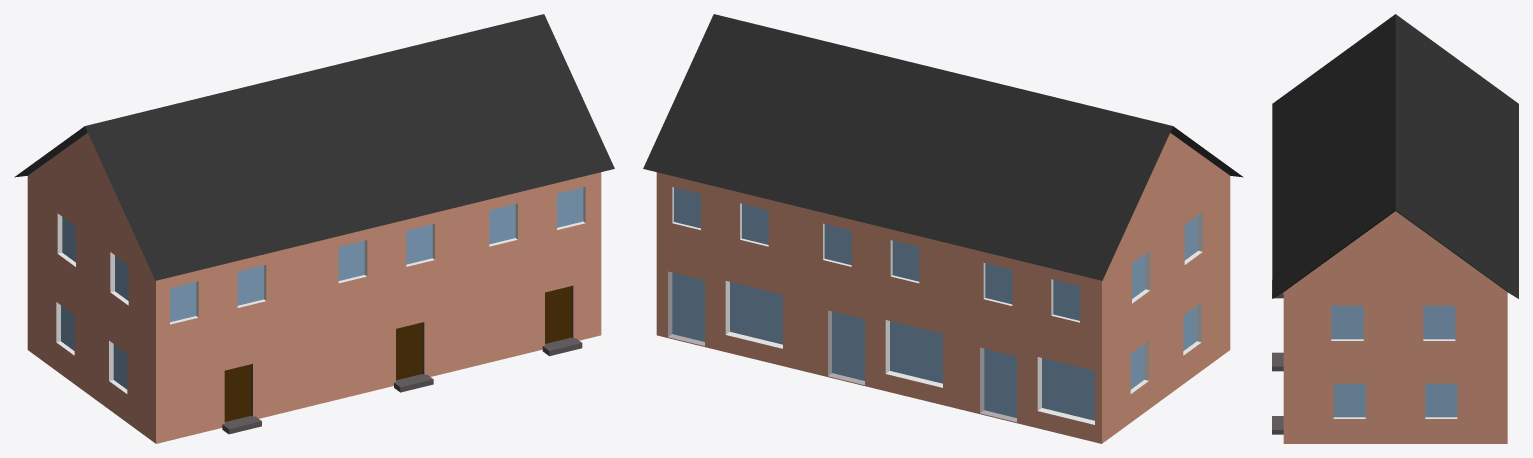
The model's file is House_01.fbx.
The picture shows the model from 3 angles, left to right: view 1: azimuth 30°, elevation 25°; view 2: azimuth 150°, elevation 25°; view 3: azimuth 270°, elevation 25°; orthographic projection. The views are drawn at different scales.
Parts seen in each view (by area): view 1: house; view 2: house; view 3: house.
Boxes of the visible parts, x1=… form: house: x1=14, y1=14, x2=614, y2=443; house: x1=643, y1=14, x2=1243, y2=443; house: x1=1272, y1=14, x2=1518, y2=443.
Size of the model in its own units: 2064 by 1178 by 1102.
